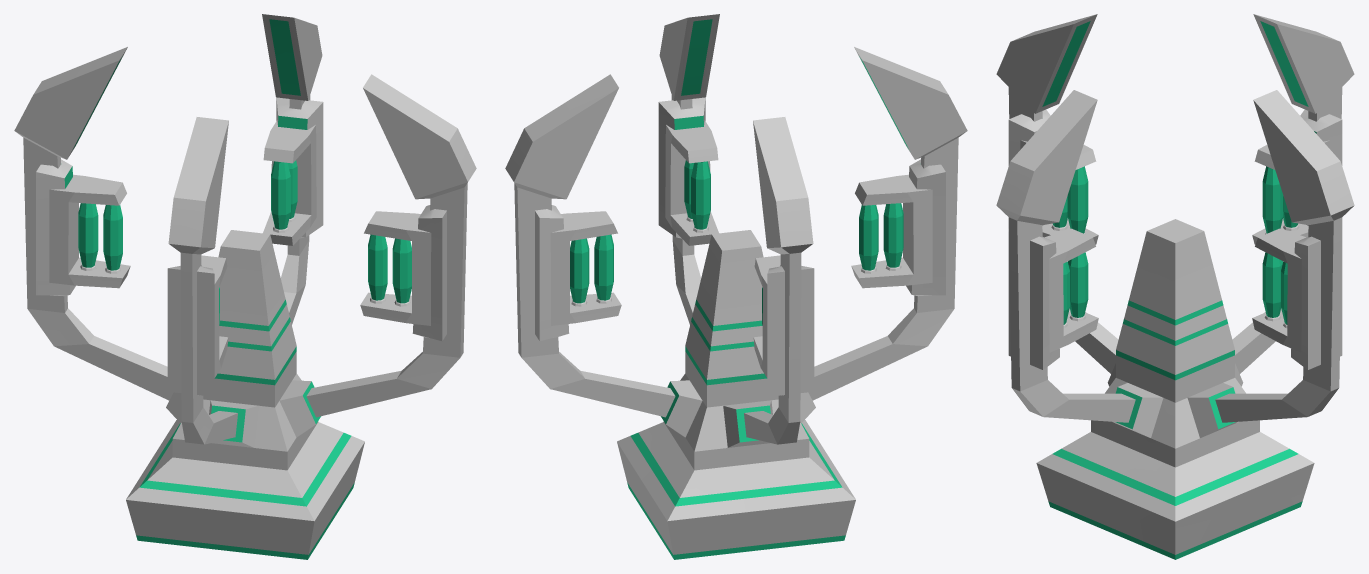
The model's file is Tower_Claw.fbx.
3 views of the same model, side by side, from view 1: azimuth 30°, elevation 25°; view 2: azimuth 150°, elevation 25°; view 3: azimuth 270°, elevation 25° (orthographic).
Parts seen in each view (by area): view 1: tower_claw; view 2: tower_claw; view 3: tower_claw.
Boxes of the visible parts, x1=… form: tower_claw: x1=14, y1=14, x2=476, y2=559; tower_claw: x1=505, y1=14, x2=967, y2=559; tower_claw: x1=996, y1=14, x2=1354, y2=559.
Size of the model in its own units: 1718 by 2382 by 1718.
